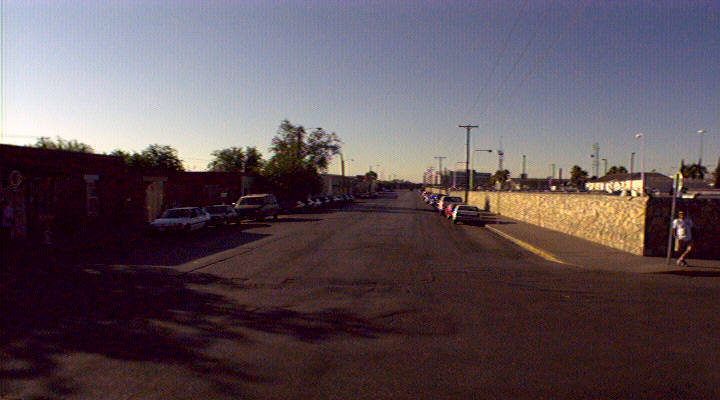Ramp: (546, 249, 673, 279)
